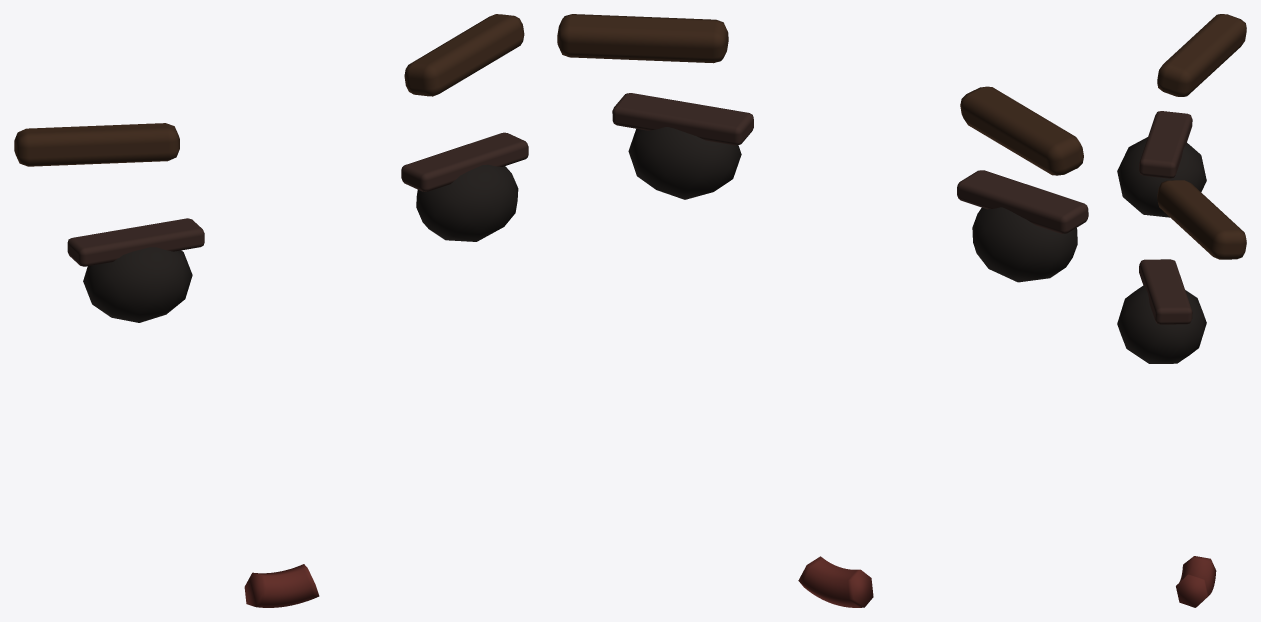
File: 05-sleepy.glb
3 renders of one model, left to right at view 1: azimuth 30°, elevation 25°; view 2: azimuth 150°, elevation 25°; view 3: azimuth 270°, elevation 25°, orthographic. The views are drawn at different scales.
Parts seen in each view (by area): view 1: Face05_Brow-1, Face05_Eye-1, Face05_Eye1, Face05_Brow1, Face05_Eyelid-1, Face05_Eyelid1, Face05_Mouth; view 2: Face05_Brow1, Face05_Eye1, Face05_Brow-1, Face05_Eye-1, Face05_Eyelid1, Face05_Eyelid-1, Face05_Mouth; view 3: Face05_Eye1, Face05_Brow-1, Face05_Brow1, Face05_Eye-1, Face05_Eyelid-1, Face05_Eyelid1, Face05_Mouth.
Part boxes in pixels (box(x1,y1,x2,y2)): Face05_Brow-1: box(14, 123, 179, 166); Face05_Eye-1: box(83, 247, 192, 322); Face05_Eye1: box(416, 164, 518, 241); Face05_Brow1: box(404, 14, 524, 96); Face05_Eyelid-1: box(67, 218, 204, 266); Face05_Eyelid1: box(401, 132, 528, 191); Face05_Mouth: box(244, 564, 319, 607); Face05_Brow1: box(557, 14, 728, 63); Face05_Eye1: box(628, 127, 741, 199); Face05_Brow-1: box(960, 86, 1083, 175); Face05_Eye-1: box(972, 207, 1077, 282); Face05_Eyelid1: box(612, 93, 753, 145); Face05_Eyelid-1: box(957, 170, 1088, 233); Face05_Mouth: box(798, 556, 873, 607); Face05_Eye1: box(1117, 285, 1206, 363); Face05_Brow-1: box(1157, 14, 1246, 96); Face05_Brow1: box(1157, 180, 1246, 259); Face05_Eye-1: box(1117, 137, 1206, 217); Face05_Eyelid-1: box(1139, 111, 1192, 178); Face05_Eyelid1: box(1139, 259, 1192, 324); Face05_Mouth: box(1176, 556, 1216, 607).
Size of the model in its own units: 0.2824 by 0.2783 by 0.0686.
